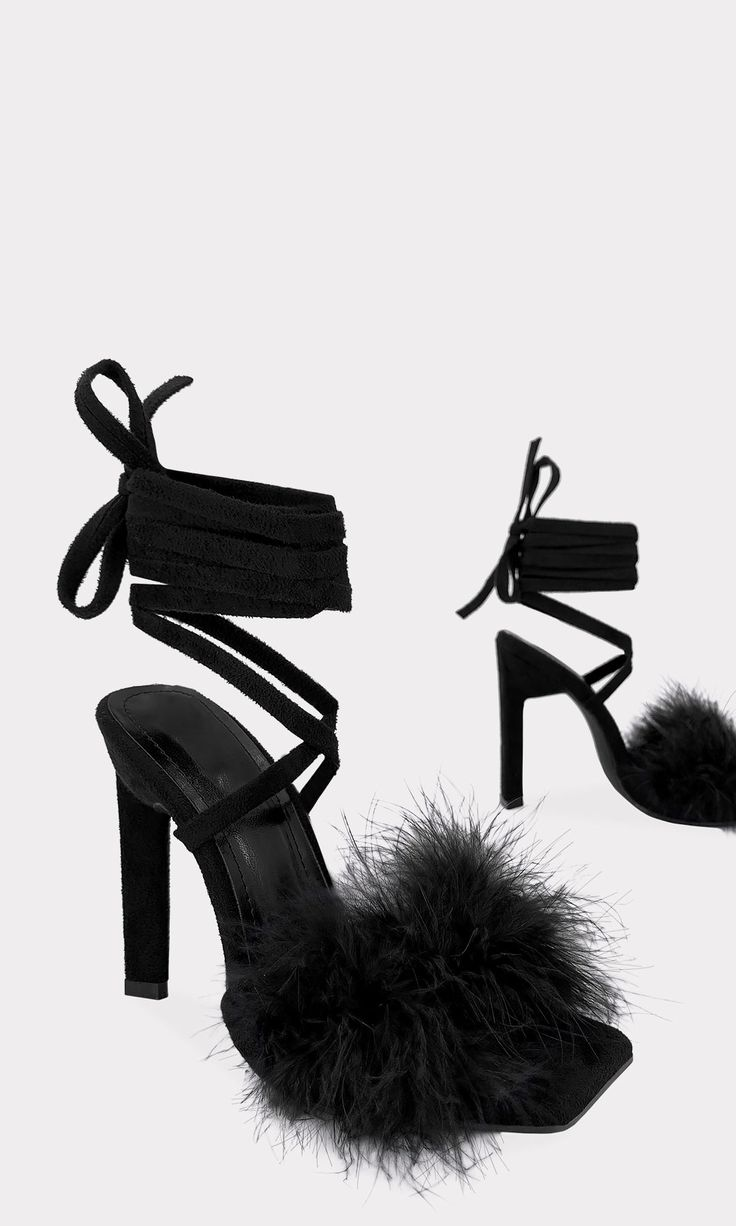gamuza: (57, 359, 640, 981)
